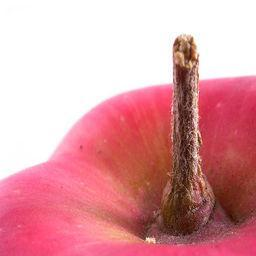apple: (1, 48, 256, 256)
